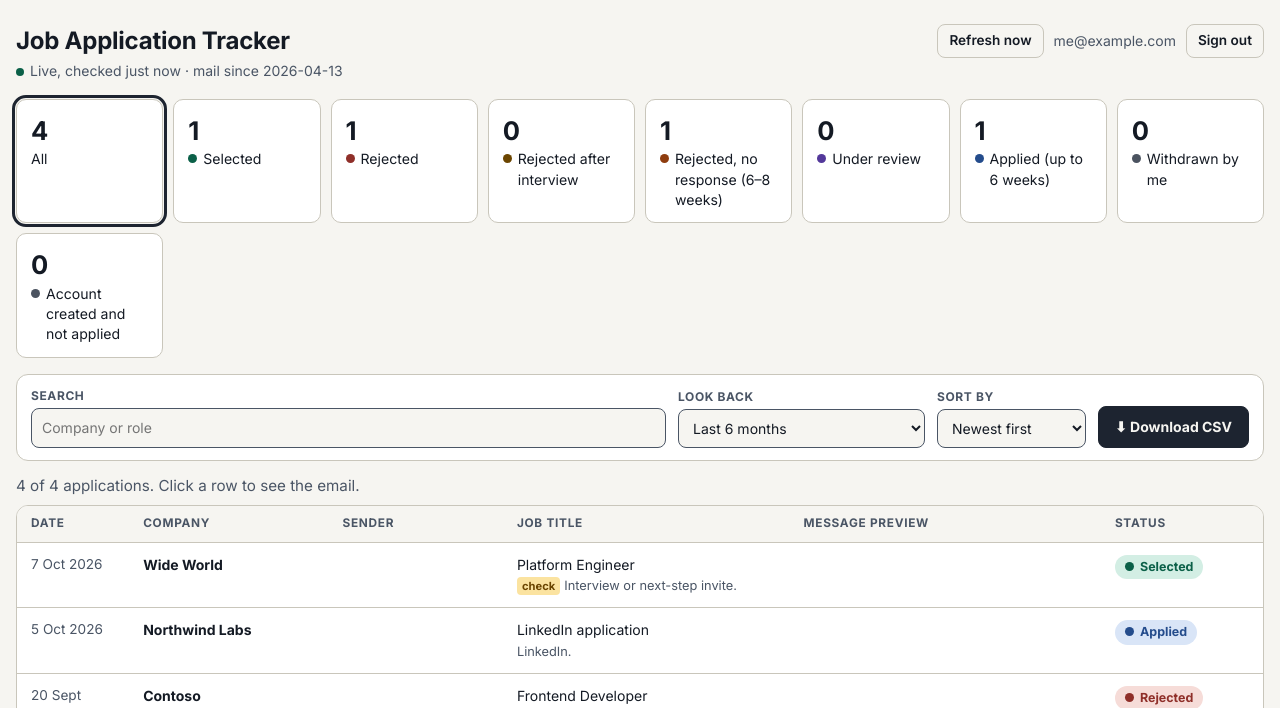
Scenario: App › signs out
The image size is (1280, 708).
Click the button "Sign out": (1225, 41) [1186,24,1264,58]
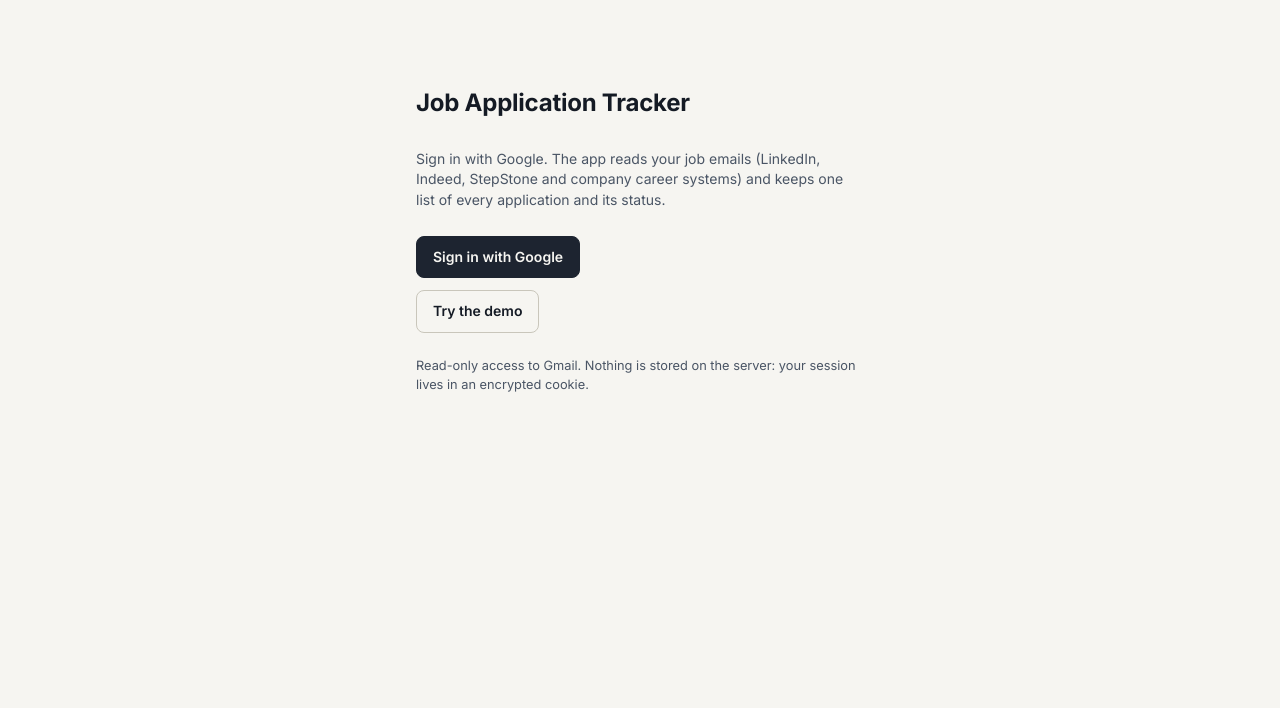
Check: the link "Try the demo" is shown, box [416,290,540,333]
